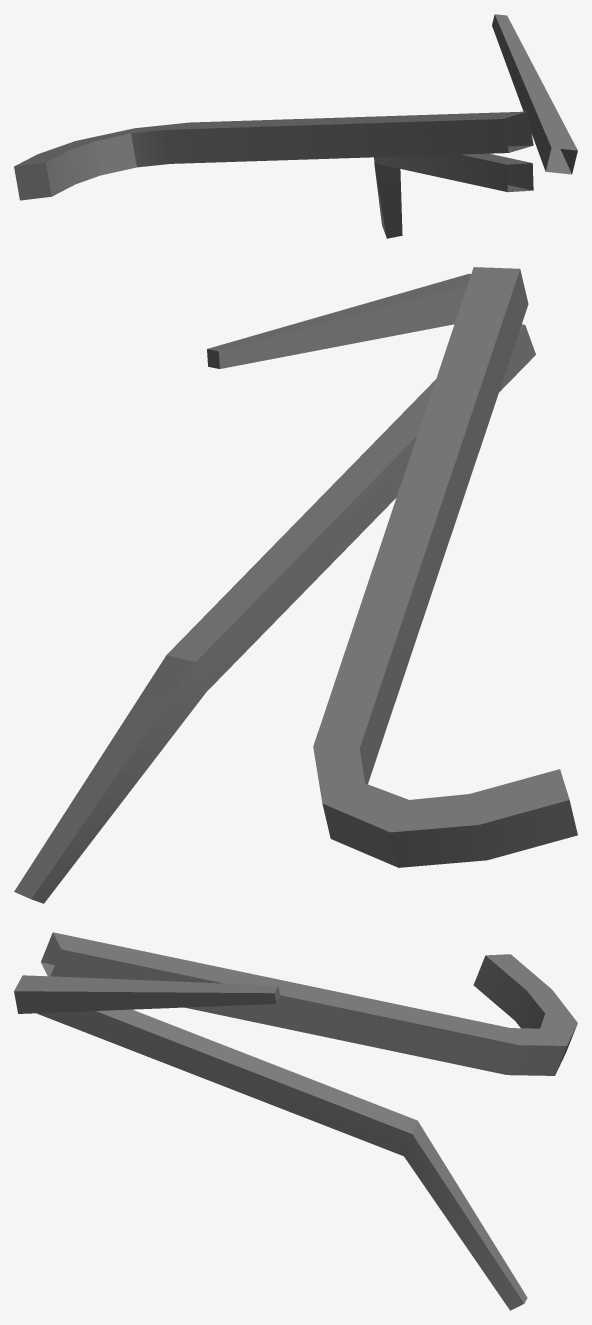
File: Debris 04.FBX
3 views of the same model, one above another, from view 1: azimuth 30°, elevation 25°; view 2: azimuth 150°, elevation 25°; view 3: azimuth 270°, elevation 25° (orthographic). The views are drawn at different scales.
Visible parts, largest first — view 1: Debris 04; view 2: Debris 04; view 3: Debris 04.
Boxes of the visible parts, x1,y1,x2,y2 form: Debris 04: (14,14,577,238); Debris 04: (14,267,577,903); Debris 04: (14,932,577,1310).
Size of the model in its own units: 161 by 124 by 200.
1 material, 1 textured.
